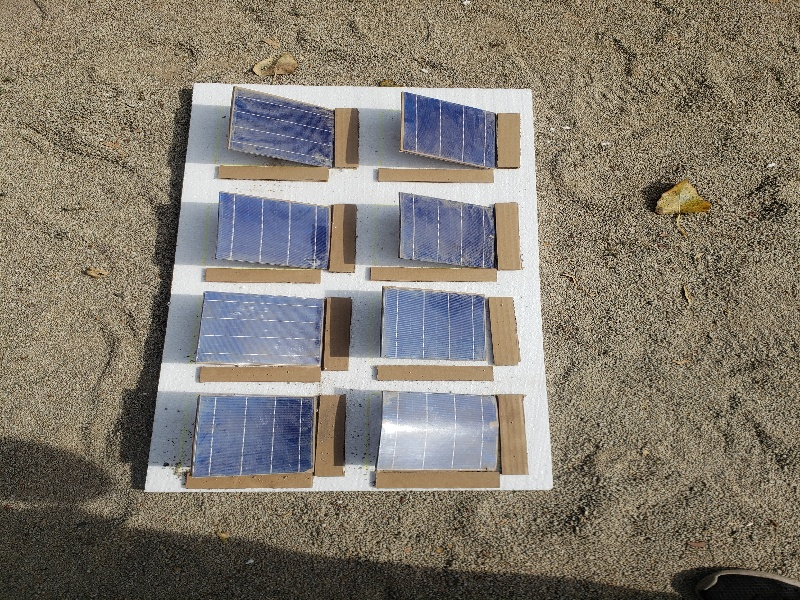dirty: (199, 292, 324, 370)
semi: (195, 397, 320, 479), (215, 191, 329, 271), (229, 86, 337, 168), (398, 191, 494, 271), (401, 93, 499, 169)
